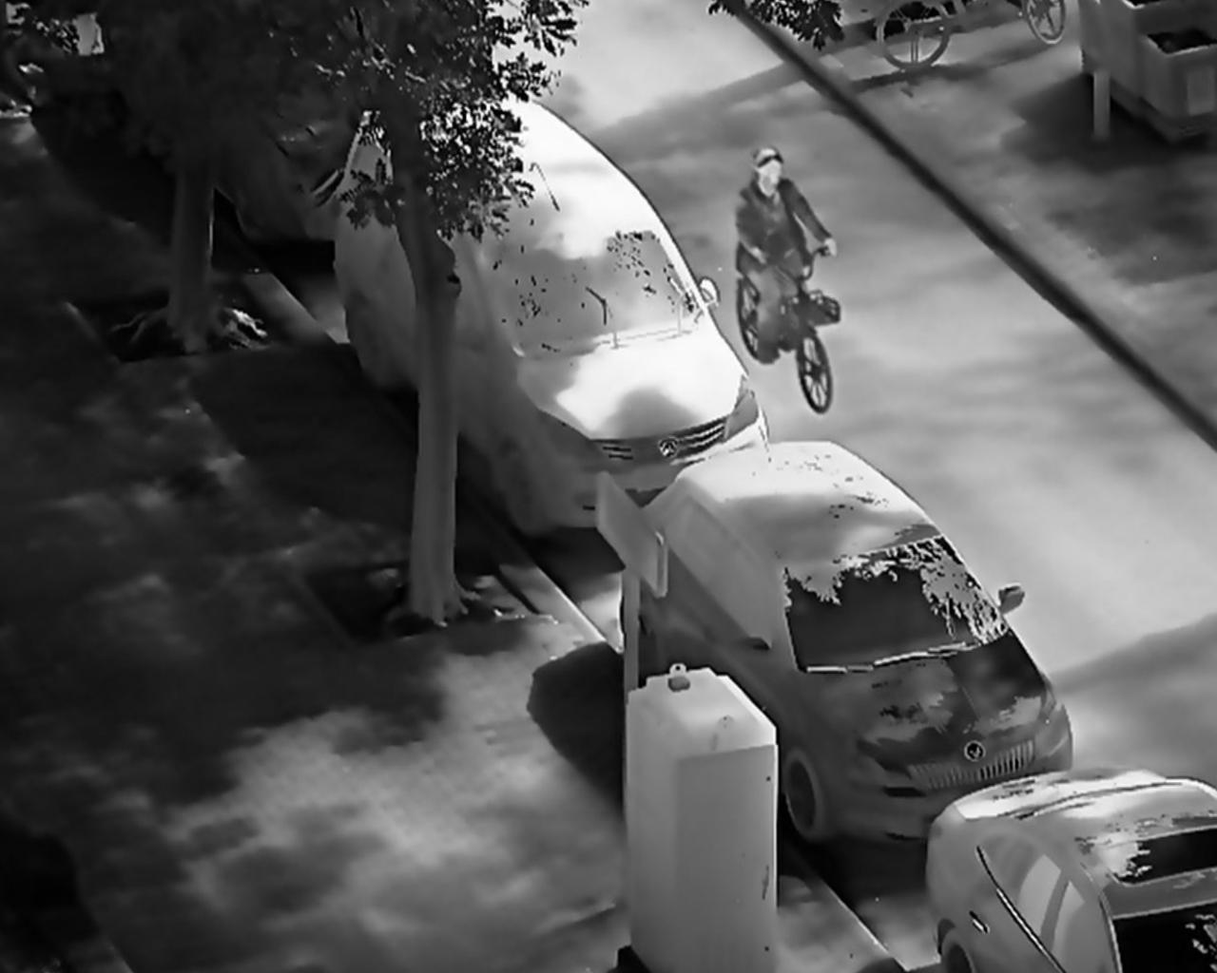person: (730, 141, 842, 366)
